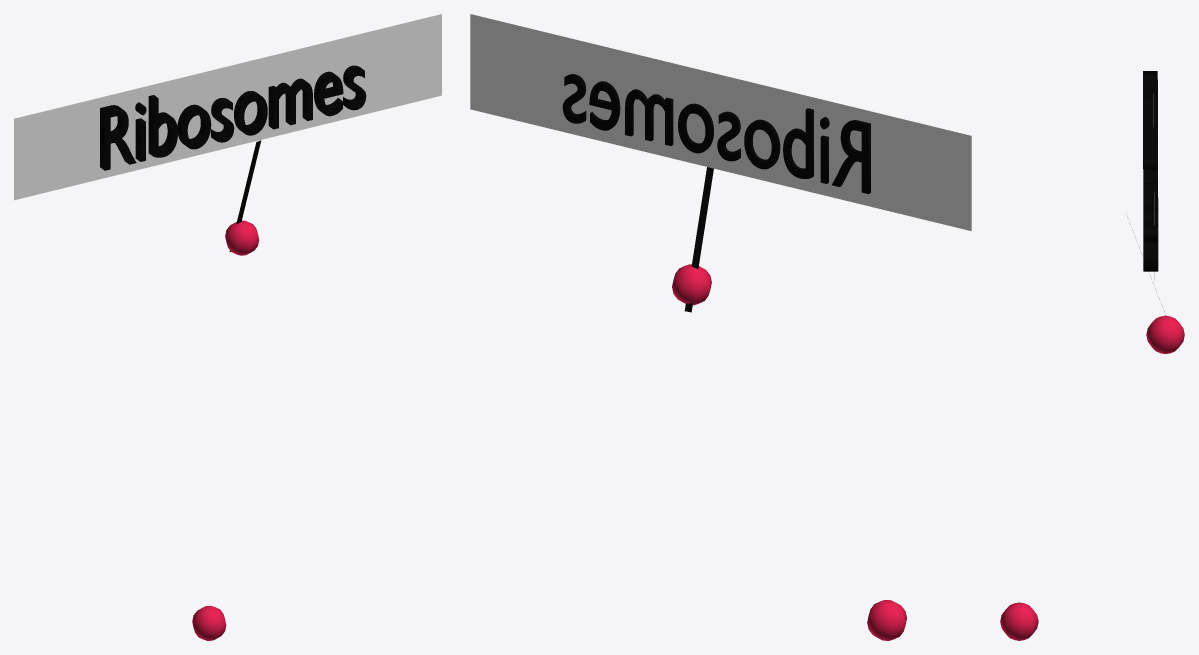
File: ribosomes.gltf
3 renders of one model, left to right at view 1: azimuth 30°, elevation 25°; view 2: azimuth 150°, elevation 25°; view 3: azimuth 270°, elevation 25°, orthographic. The views are drawn at different scales.
Visible parts, largest first — view 1: Plane.011, Text.014, Piedras_Rojas; view 2: Plane.011, Text.014, Piedras_Rojas, Plane.030; view 3: Text.014, Piedras_Rojas.
Boxes of the visible parts, <box> form: Plane.011: <box>14,14,441,200</box>; Text.014: <box>100,65,366,170</box>; Piedras_Rojas: <box>192,220,259,640</box>; Plane.011: <box>470,14,971,231</box>; Text.014: <box>562,74,870,194</box>; Piedras_Rojas: <box>672,264,906,640</box>; Plane.030: <box>684,167,713,312</box>; Text.014: <box>1143,71,1158,271</box>; Piedras_Rojas: <box>1000,315,1184,640</box>.
Size of the model in its own units: 1.33 by 1.51 by 0.4573.
